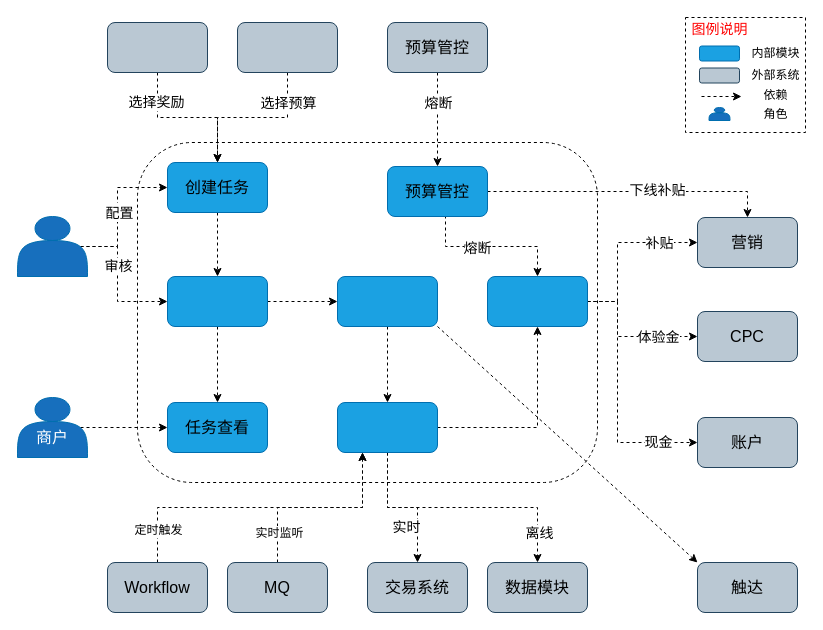
The diagram is 823 pixels wide and 630 high, and some of its shapes have lost their labels. Here are the shapes that lost their labels. From the top down, the centre of each, then its label:
At point (157, 47): "奖励池".
At point (287, 47): "预算池".
At point (52, 246): "运营".
At point (217, 301): "任务审核".
At point (387, 301): "任务发放".
At point (537, 301): "奖励发放".
At point (387, 427): "状态判断".
